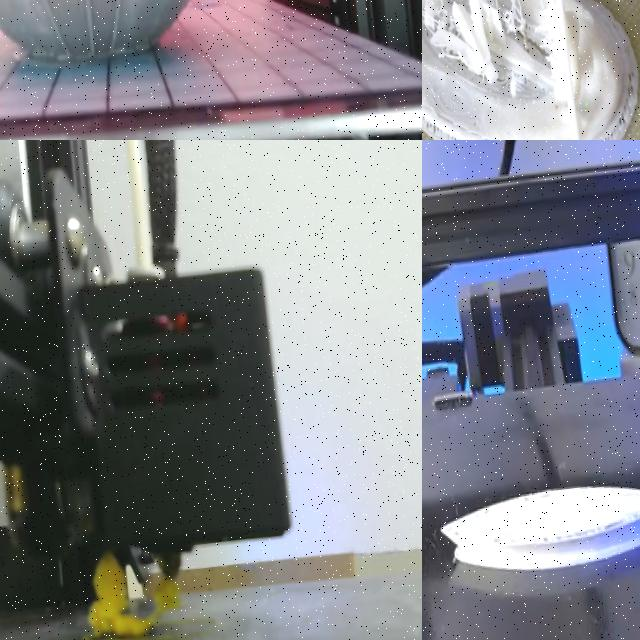spaghetti: (88, 552, 180, 635), (487, 0, 559, 74), (422, 0, 468, 61)
